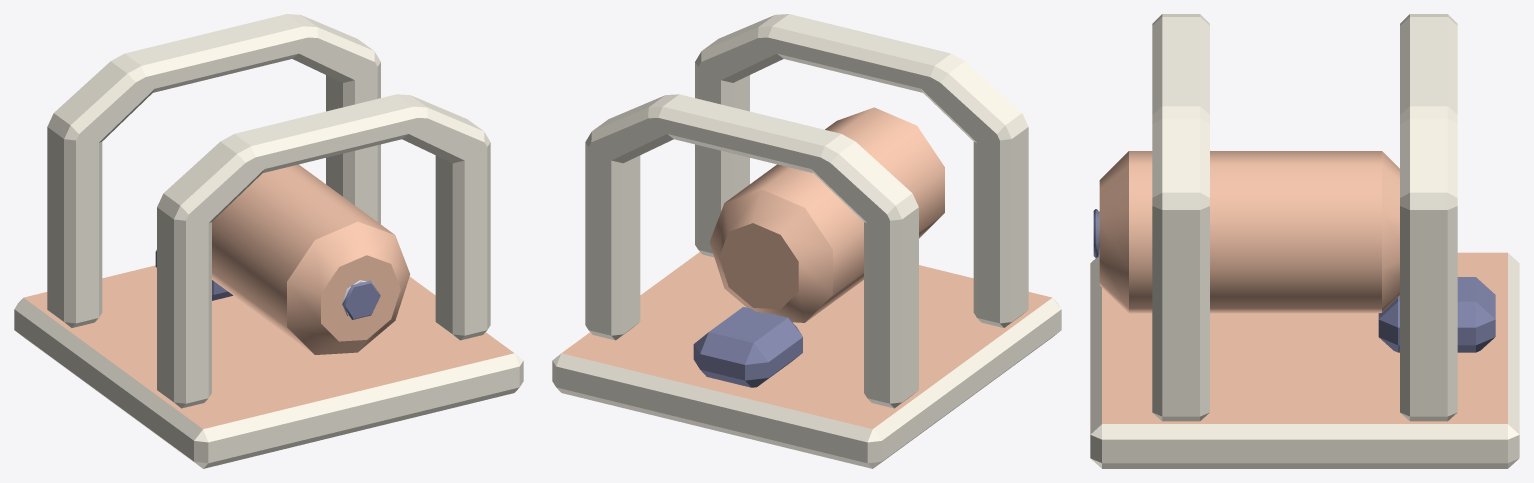
The model's file is R4X_WeaponDurabilityBooster_LOD1.fbx.
The picture shows the model from 3 angles, left to right: view 1: azimuth 30°, elevation 25°; view 2: azimuth 150°, elevation 25°; view 3: azimuth 270°, elevation 25°; orthographic projection. The views are drawn at different scales.
Visible parts, largest first — view 1: R4X_WeaponDurabilityBooster_LOD1; view 2: R4X_WeaponDurabilityBooster_LOD1; view 3: R4X_WeaponDurabilityBooster_LOD1.
Part boxes in pixels (left/top/right/bottom): R4X_WeaponDurabilityBooster_LOD1: left=14, top=14, right=523, bottom=468; R4X_WeaponDurabilityBooster_LOD1: left=552, top=14, right=1061, bottom=468; R4X_WeaponDurabilityBooster_LOD1: left=1090, top=14, right=1519, bottom=468.
Bounding box in the file's own units: 0.52 × 0.43 × 0.52.
